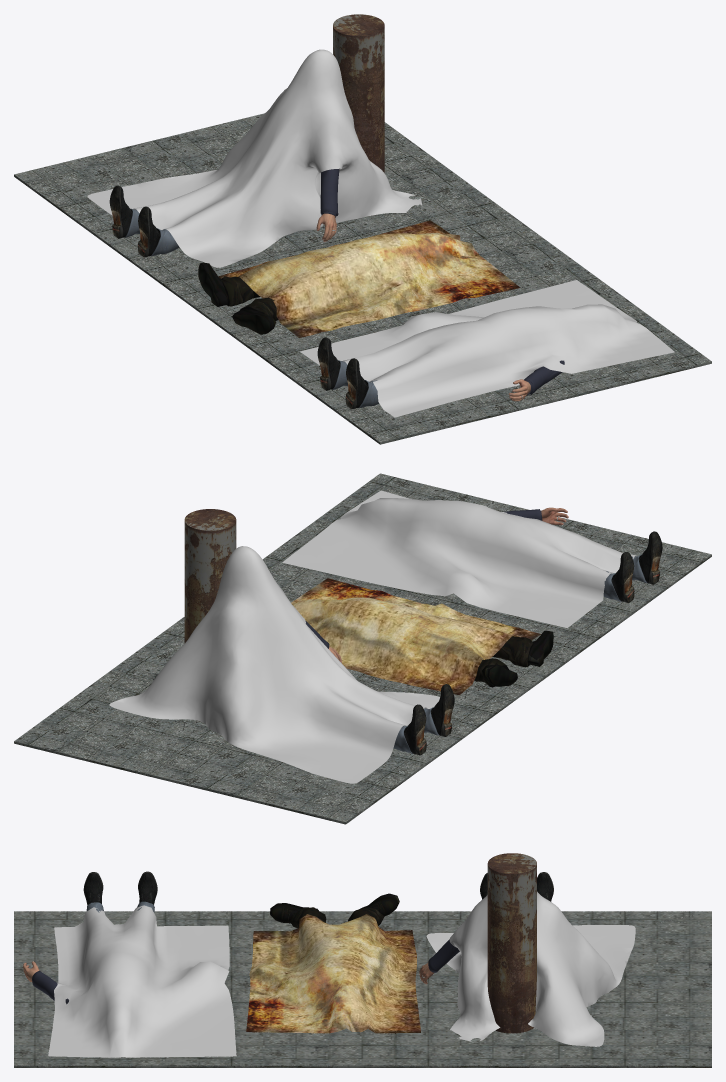
3 renders of one model, top to bottom at view 1: azimuth 30°, elevation 25°; view 2: azimuth 150°, elevation 25°; view 3: azimuth 270°, elevation 25°, orthographic. The views are drawn at different scales.
Visible parts, largest first — view 1: Cube, cloth_2, cloth, cloth_1, Cylinder, Legs, feet_2, feet, arms, pans; view 2: Cube, cloth_2, cloth, cloth_1, Cylinder, Legs, feet_2, feet; view 3: Cube, cloth, cloth_1, cloth_2, Cylinder, Legs, feet_2, feet, arms, arms_2.
Part boxes in pixels (left/top/right/bottom): Cube: left=14, top=113, right=711, bottom=444; cloth_2: left=87, top=49, right=422, bottom=267; cloth: left=300, top=280, right=674, bottom=417; cloth_1: left=218, top=220, right=520, bottom=337; Cylinder: left=333, top=14, right=384, bottom=172; Legs: left=198, top=262, right=278, bottom=334; feet_2: left=317, top=337, right=368, bottom=409; feet: left=109, top=185, right=160, bottom=257; arms: left=320, top=168, right=339, bottom=217; pans: left=124, top=208, right=179, bottom=256; Cube: left=14, top=473, right=711, bottom=824; cloth_2: left=109, top=546, right=439, bottom=783; cloth: left=282, top=490, right=636, bottom=628; cloth_1: left=291, top=578, right=541, bottom=695; Cylinder: left=184, top=509, right=236, bottom=643; Legs: left=474, top=630, right=553, bottom=687; feet_2: left=612, top=531, right=662, bottom=602; feet: left=404, top=684, right=454, bottom=755; Cube: left=14, top=911, right=711, bottom=1067; cloth: left=48, top=905, right=236, bottom=1057; cloth_1: left=246, top=914, right=420, bottom=1033; cloth_2: left=426, top=891, right=635, bottom=1046; Cylinder: left=487, top=853, right=536, bottom=1033; Legs: left=270, top=893, right=399, bottom=927; feet_2: left=83, top=871, right=157, bottom=904; feet: left=480, top=872, right=553, bottom=901; arms: left=428, top=939, right=459, bottom=972; arms_2: left=32, top=971, right=68, bottom=1004.
Size of the model in its own units: 371 by 203 by 710.
